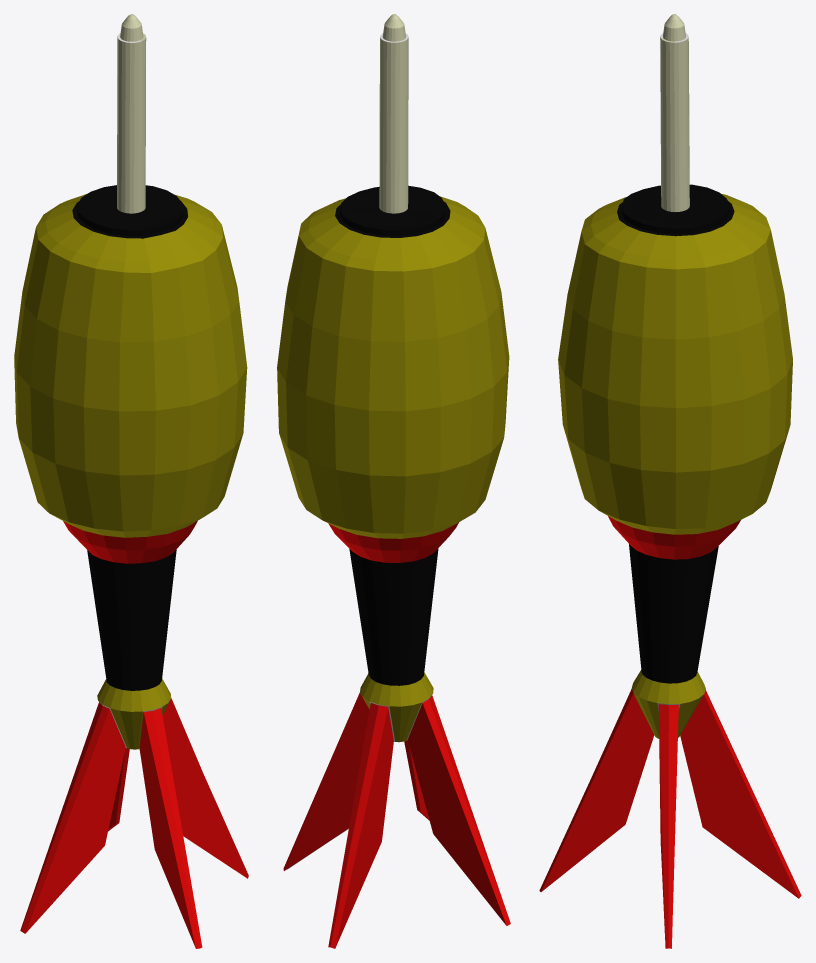
File: dart.fbx
3 renders of one model, left to right at view 1: azimuth 30°, elevation 25°; view 2: azimuth 150°, elevation 25°; view 3: azimuth 270°, elevation 25°, orthographic.
Parts seen in each view (by area): view 1: Cube; view 2: Cube; view 3: Cube.
Part boxes in pixels (x1,y1,x2,y2): Cube: (14,14,248,948); Cube: (277,14,510,948); Cube: (539,14,801,948).
Size of the model in its own units: 12.05 by 44.96 by 12.11.
